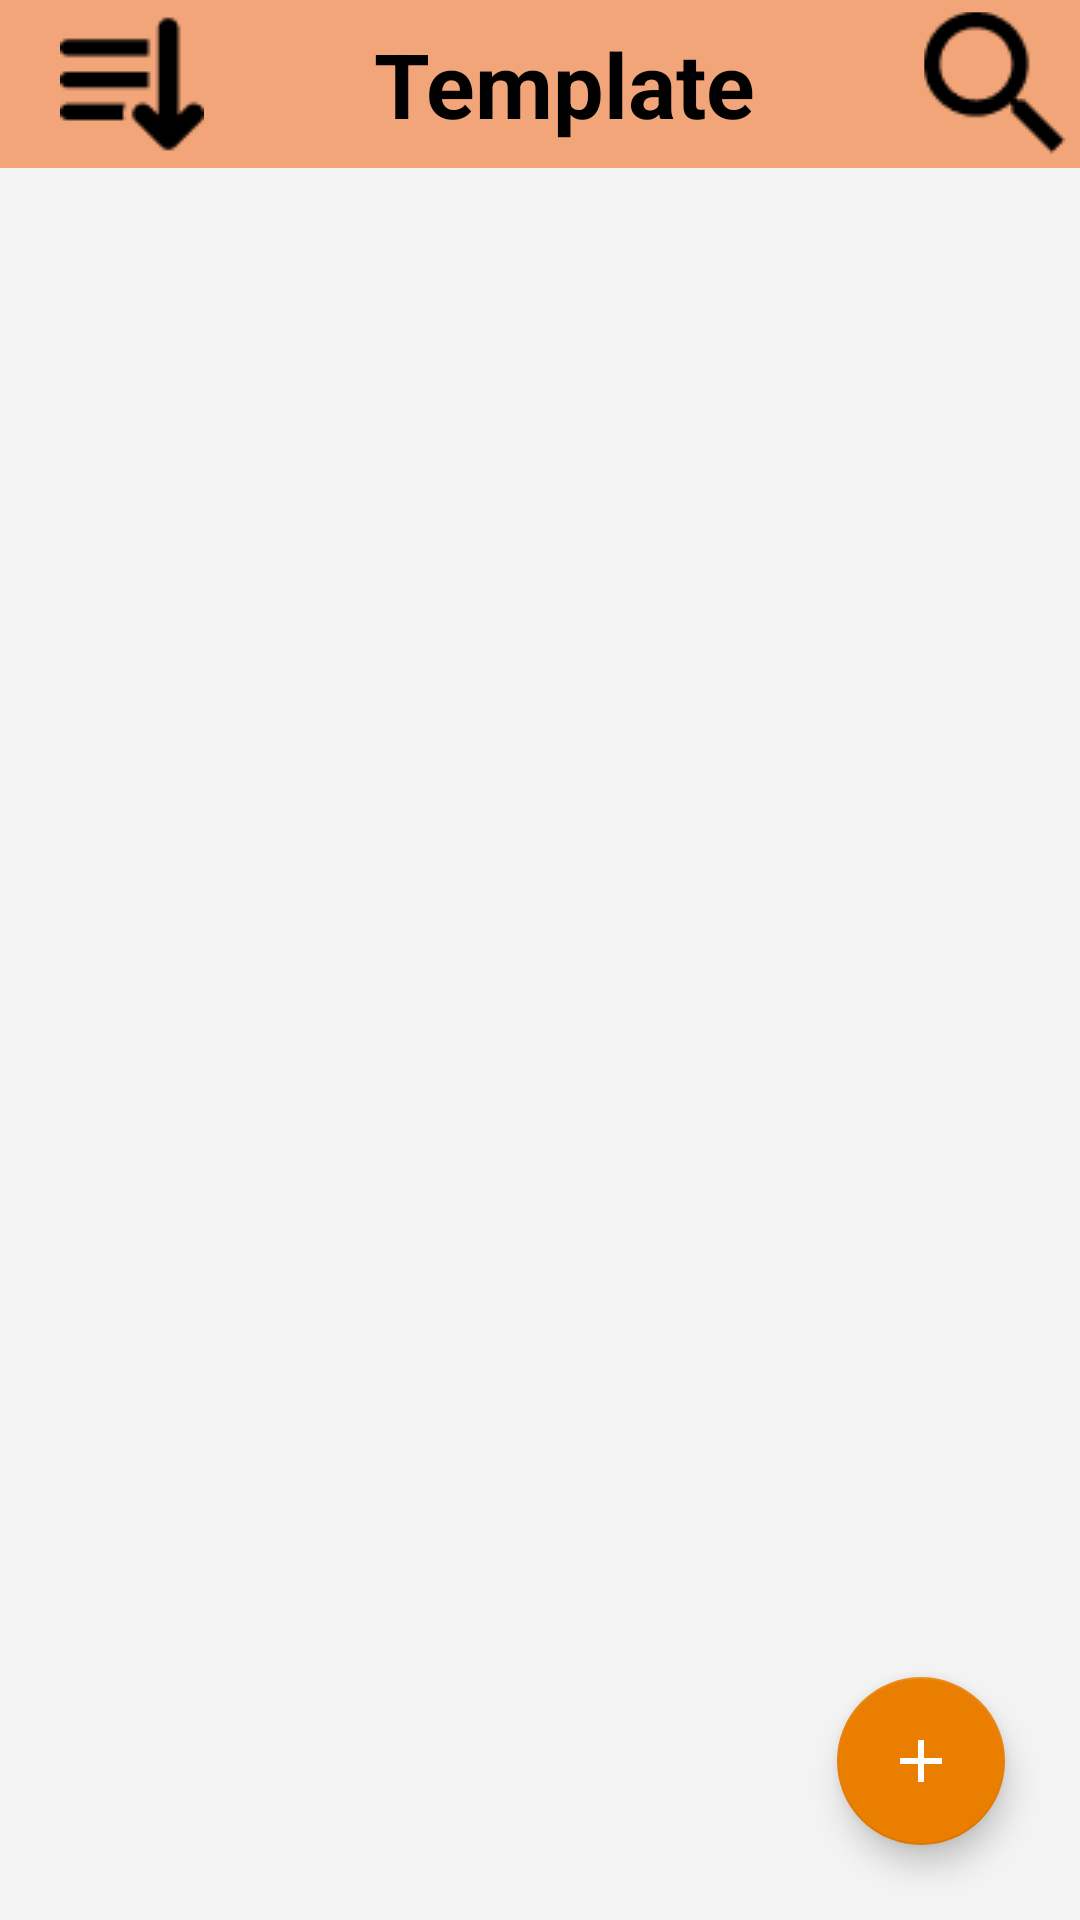

Icon click points for this 1080 × 1920 phone screenshot, format (x=x, y=y):
add: (x=921, y=1761)
search: (x=995, y=83)
sortdown: (x=132, y=84)
